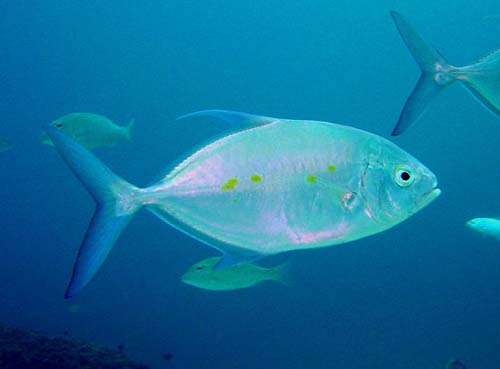fish: (40, 111, 444, 301)
